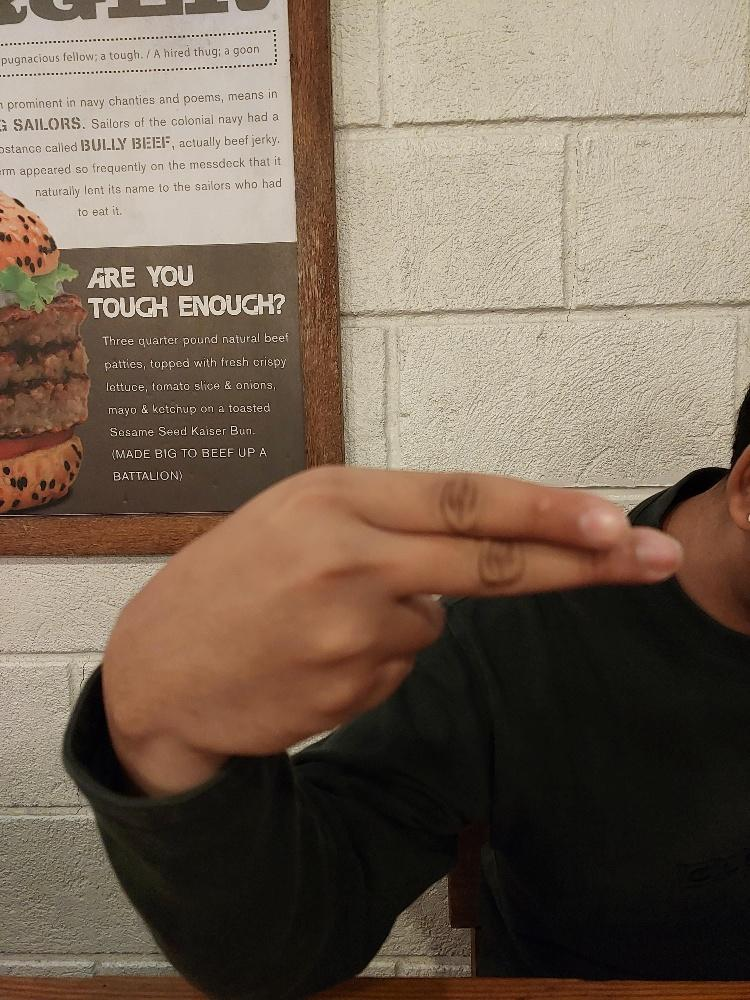h: (100, 460, 686, 754)
